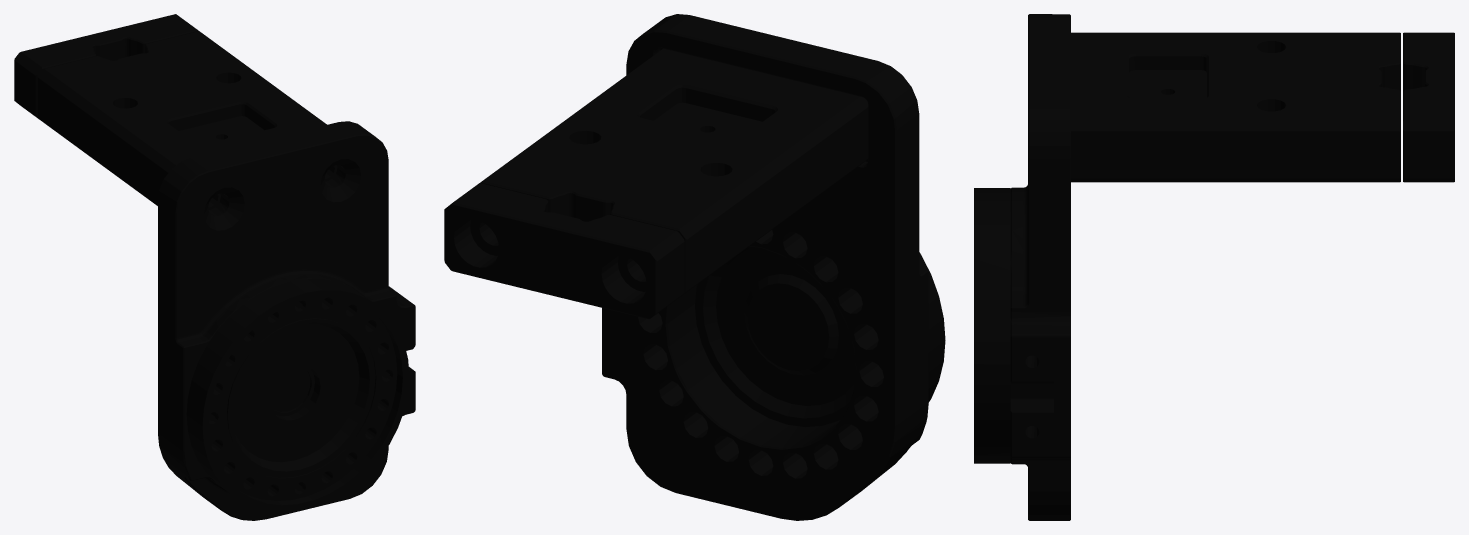
Rendered from steer_motor_link2.usd.sapien.glb.
3 renders of one model, left to right at view 1: azimuth 30°, elevation 25°; view 2: azimuth 150°, elevation 25°; view 3: azimuth 270°, elevation 25°, orthographic. The views are drawn at different scales.
Visible parts, largest first — view 1: steer_motor_link2; view 2: steer_motor_link2; view 3: steer_motor_link2.
Boxes of the visible parts, box(x1,y1,x2,y2) form: steer_motor_link2: box(14, 14, 415, 520); steer_motor_link2: box(444, 14, 945, 520); steer_motor_link2: box(974, 14, 1454, 520).
Bounding box in the file's own units: 0.072 × 0.1072 × 0.1115.
1 material, 1 textured.
